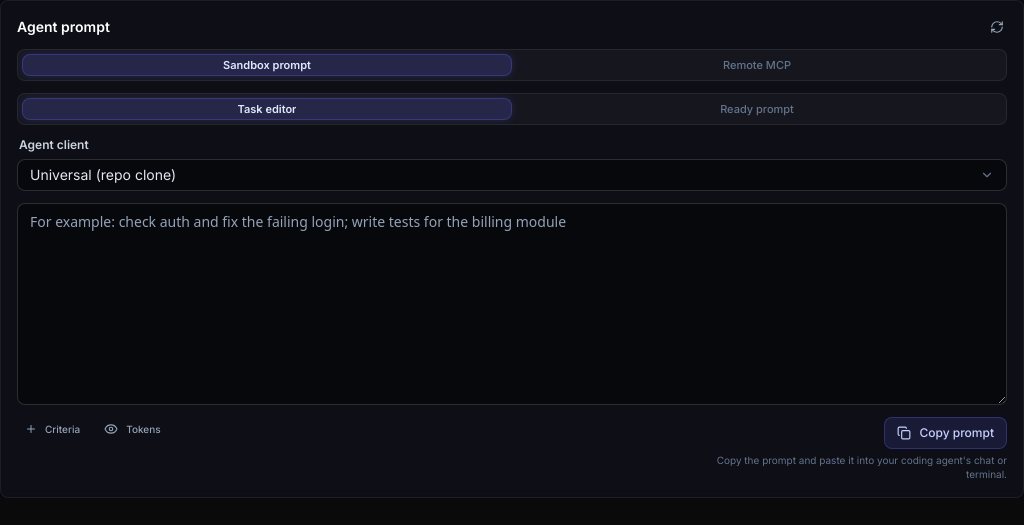
Test: DevboxPrompt remote MCP mode › shows an info badge for OAuth types but keeps the connection fields visible
Expected: the button with test id "devbox-prompt-copy" is shown, 884,417 -> 1007,449
Click the button "Remote MCP".
click(757, 65)  # box 512,53 -> 1002,77
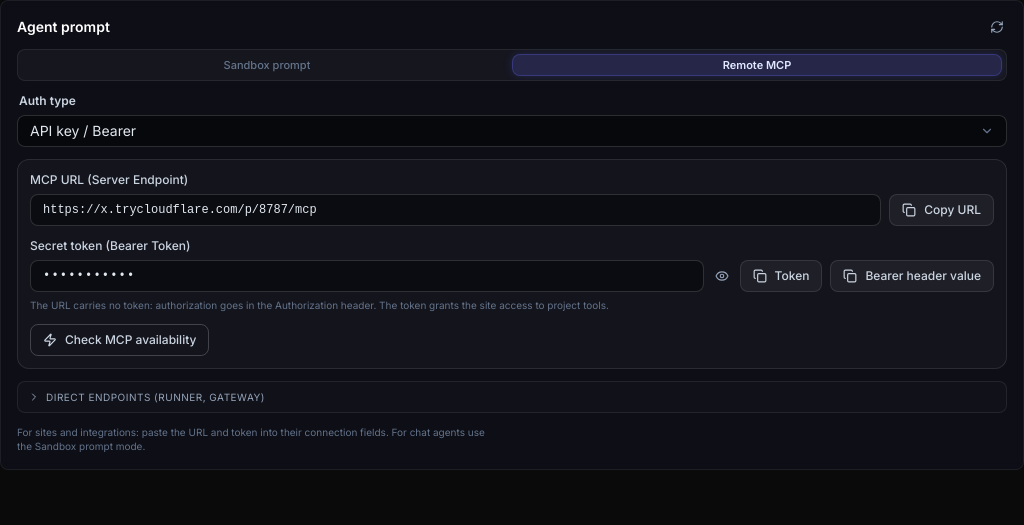
Now the field with test id "devbox-remote-url" is shown, box 31,194 -> 880,226
Select "OAuth 2 Dynamic (soon)" in the dropdown with test id "devbox-remote-auth" at (47, 100), box 19,93 -> 76,108
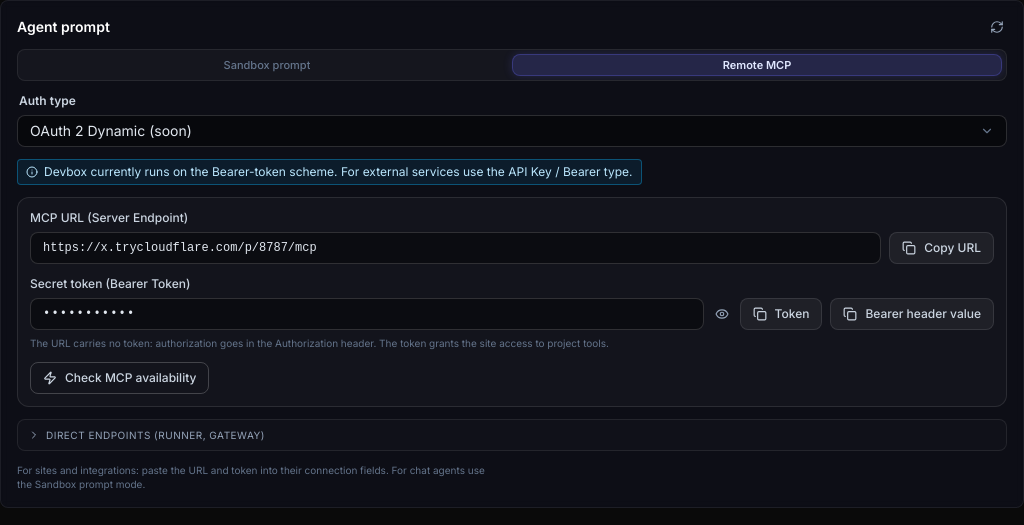
Now the field with test id "devbox-remote-url" is shown, box 31,232 -> 880,264
Now the element with test id "devbox-remote-auth-unsupported" shows "Devbox currently runs on the Bearer-token scheme. For external services use the API Key / Bearer type.", box 44,164 -> 632,179
Select "API key / Bearer" in the dropdown with test id "devbox-remote-auth" at (47, 100), box 19,93 -> 76,108
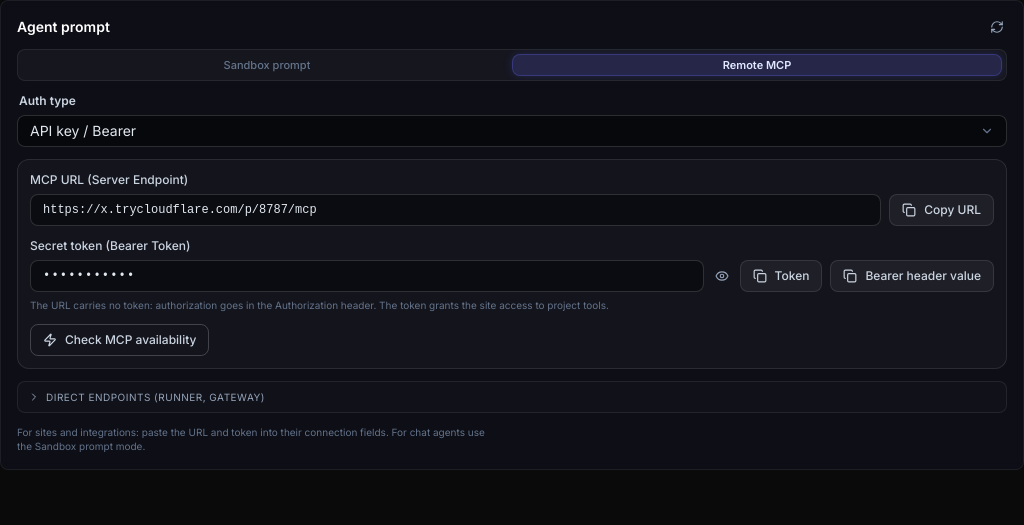
Now the element with test id "devbox-remote-auth-unsupported" is gone
